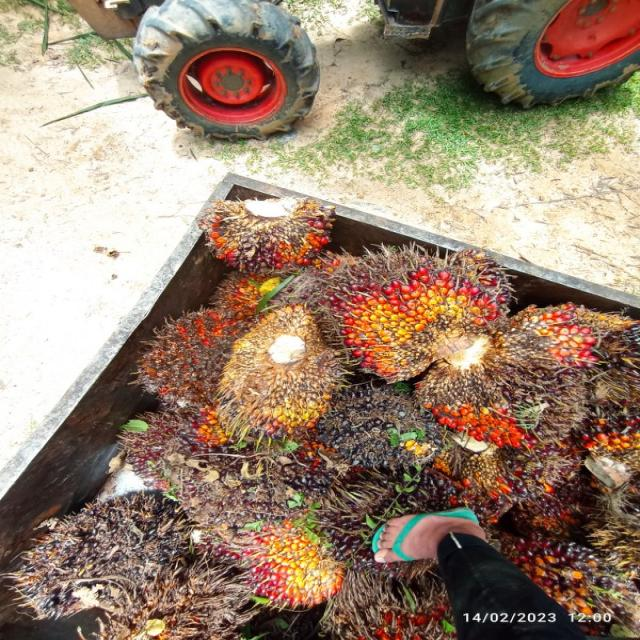fraksi 00: (3, 482, 211, 620), (318, 379, 435, 467)
fraksi 1: (186, 184, 342, 284)
fraksi 3: (298, 236, 524, 394), (427, 312, 606, 452), (220, 512, 340, 622)
fraksi 4: (124, 281, 260, 416)
